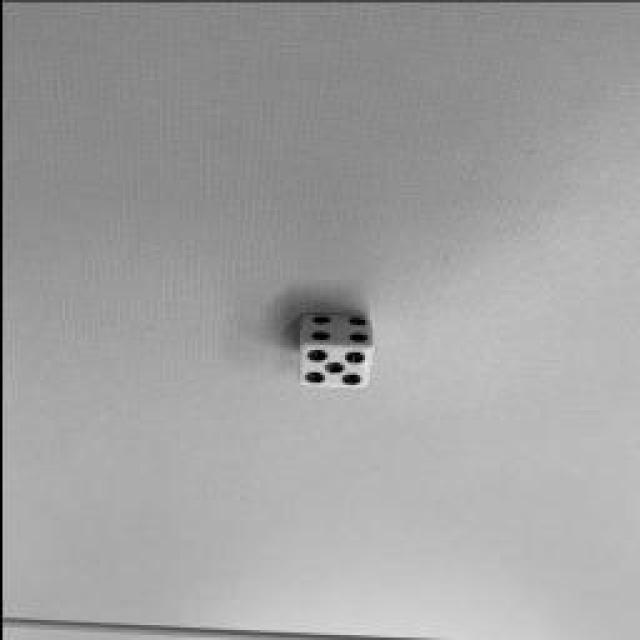dice_5: (296, 344, 369, 386)
